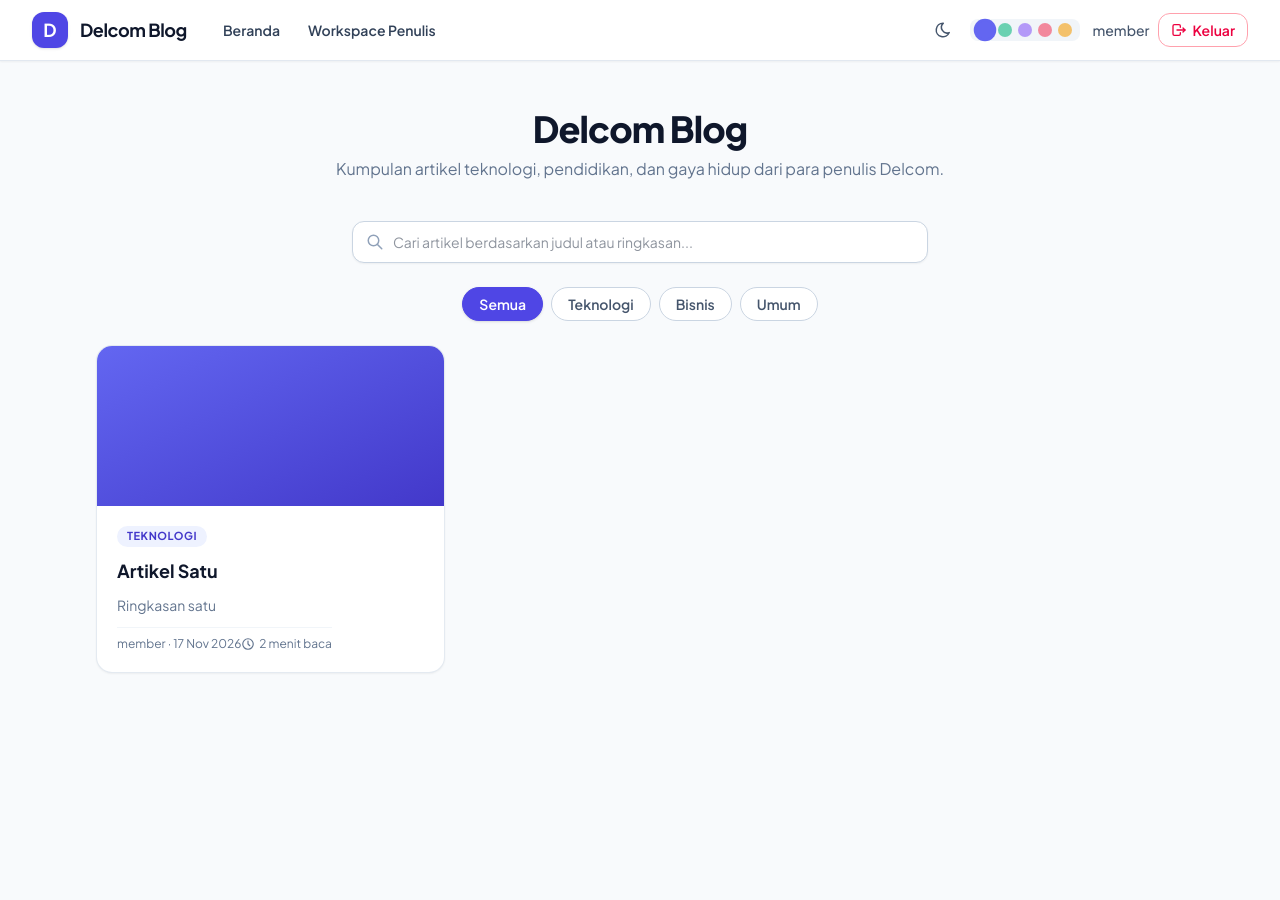
Test: App › akses & autentikasi › logout menghapus sesi
Click the button "Keluar".
click(1203, 30)  # box [1158,13,1248,47]
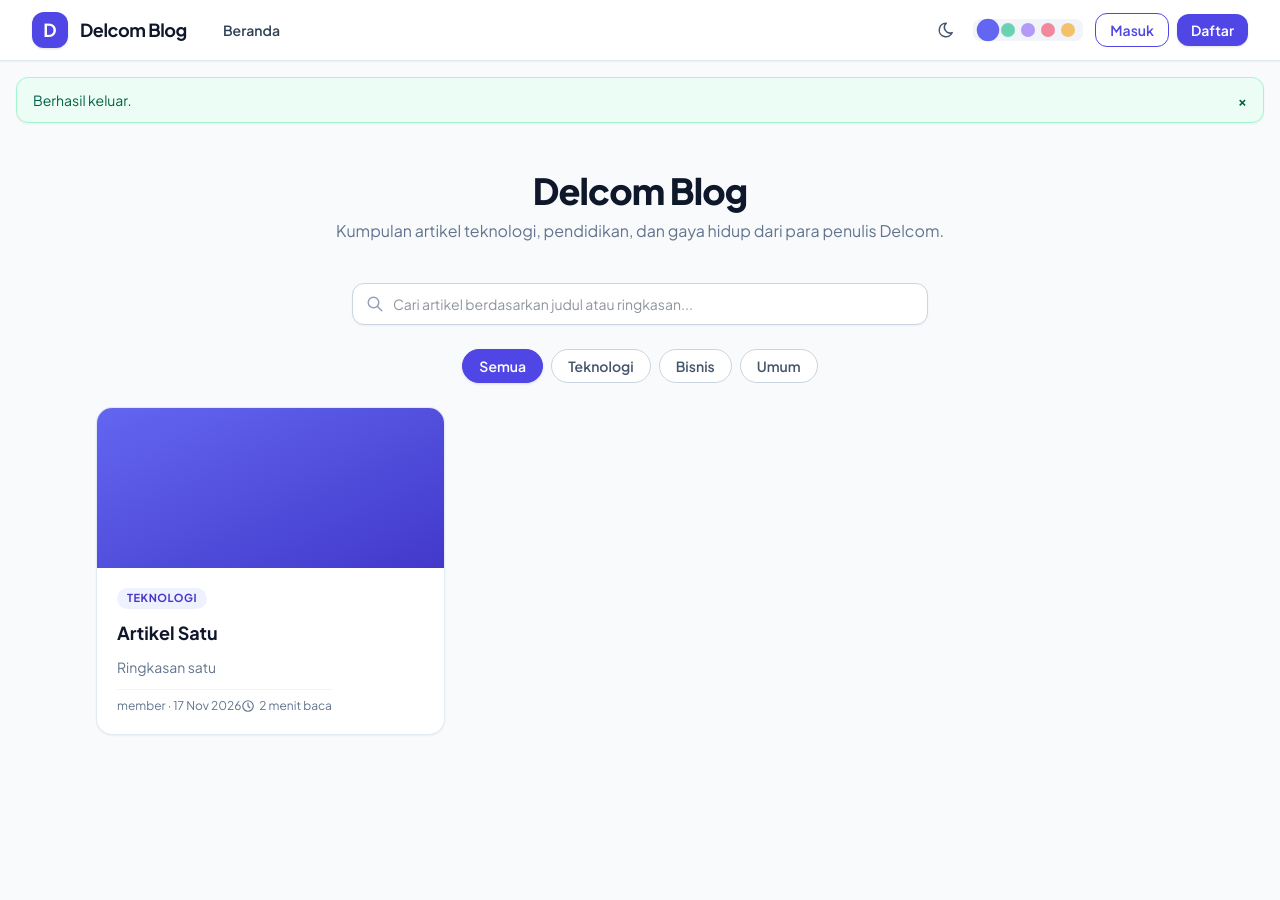
Result: the text "Berhasil keluar." is shown at [33,90,132,110]
Result: the button "Daftar" is shown at [1177,14,1248,46]
